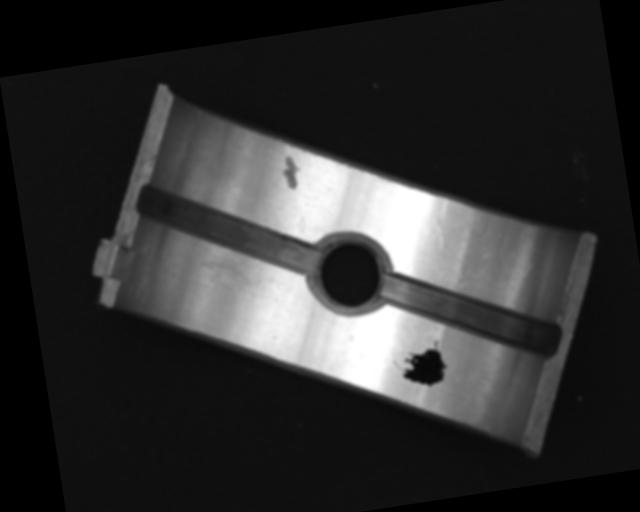blot: (391, 338, 451, 392)
bruise: (279, 153, 303, 193)
gap: (139, 165, 318, 296), (380, 256, 562, 382)
hole: (302, 229, 396, 322)
nick: (425, 198, 456, 250)
scratch: (190, 248, 269, 306)
